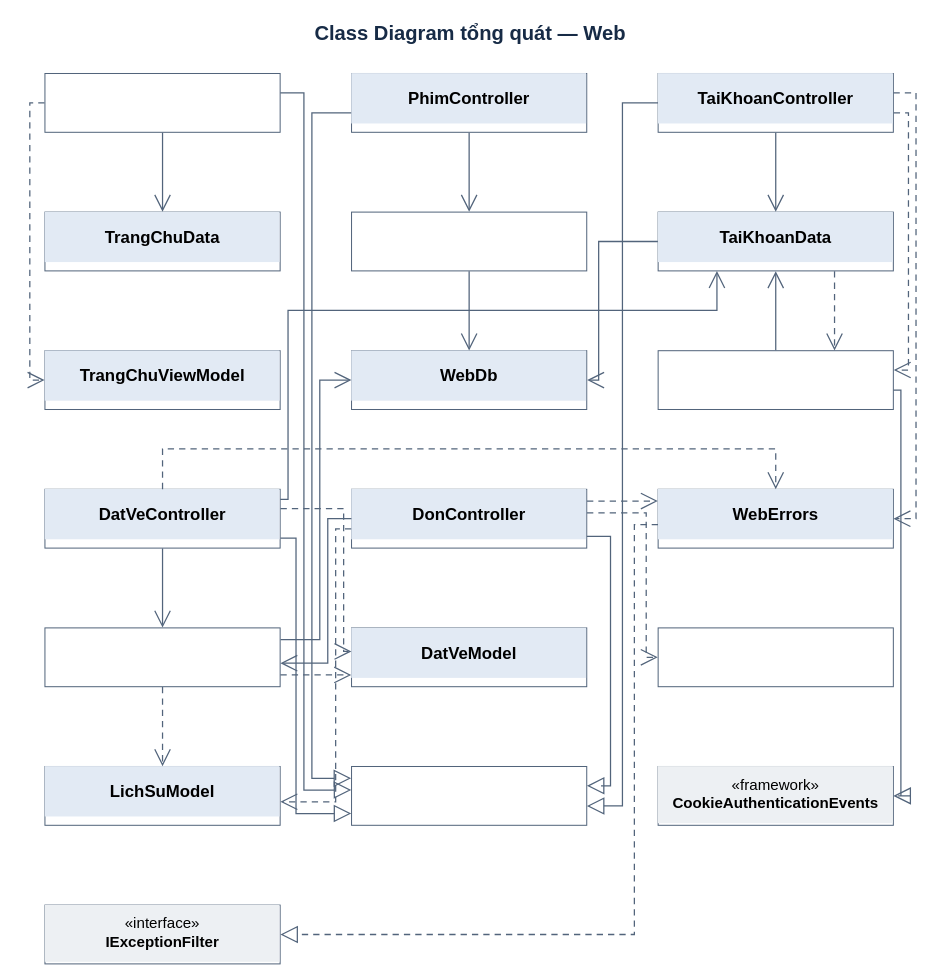
Some shapes in this 948 by 979 pixel diagram are drawn without their labels. The shapes that lost their labels are listed below. From the top down, each one's box as (x1, y1, x2, y2) in pixels, then its label:
(44, 73, 280, 132): HomeController
(351, 211, 587, 271): PhimData
(657, 350, 893, 410): KhachHangSession
(44, 627, 280, 687): DatVeData
(657, 627, 893, 687): DonModel
(351, 766, 587, 825): «framework» Controller
